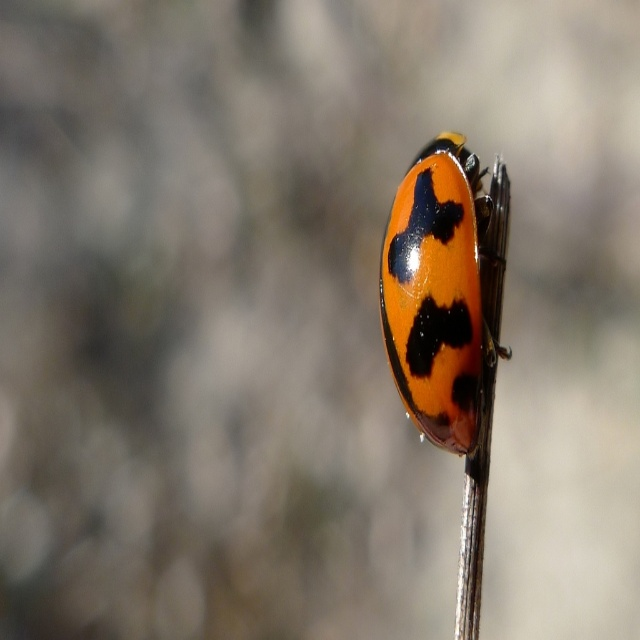Ladybug: (377, 129, 512, 457)
